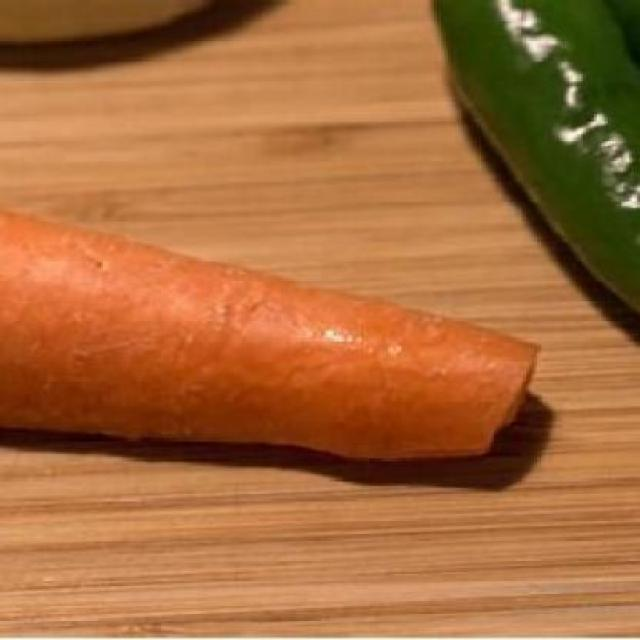carrot: (2, 192, 586, 491)
